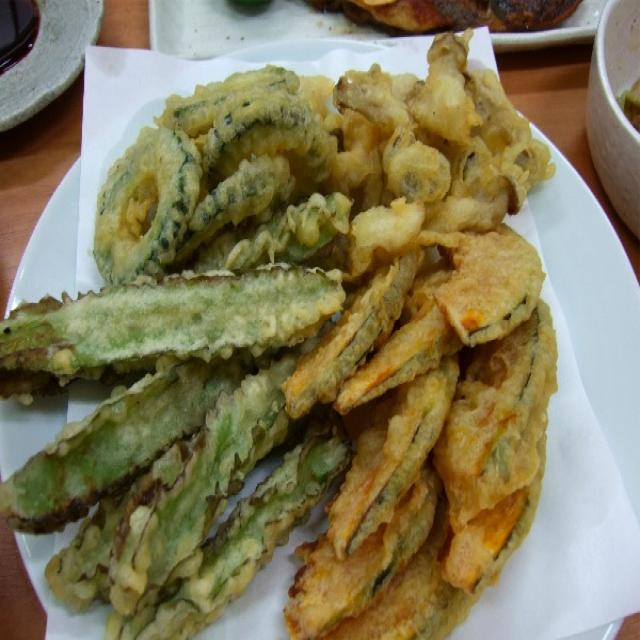蔬菜料理: (0, 0, 608, 640)
